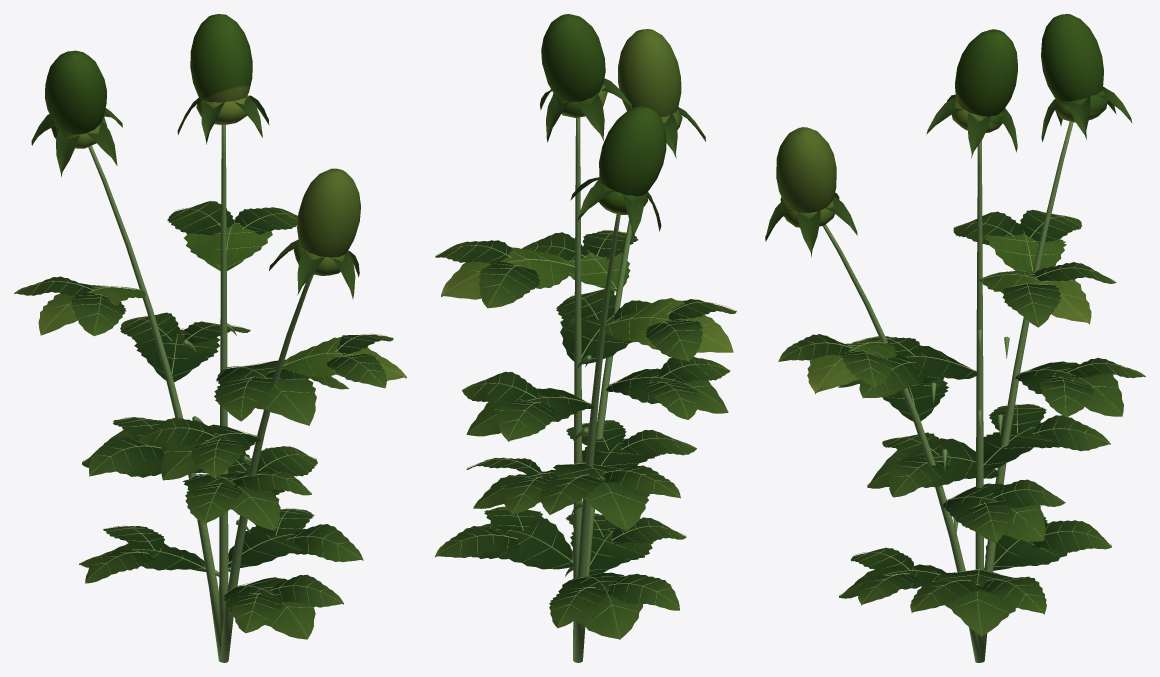
The model's file is rose-07.glb.
The picture shows the model from 3 angles, left to right: view 1: azimuth 30°, elevation 25°; view 2: azimuth 150°, elevation 25°; view 3: azimuth 270°, elevation 25°; orthographic projection. The views are drawn at different scales.
Parts seen in each view (by area): view 1: rose_stage_07_leaf_veins.012, rose_stage_07_young_leaf.012, rose_stage_07_stem_fibres.012, rose_stage_07_raised_midveins.012; view 2: rose_stage_07_leaf_veins.012, rose_stage_07_young_leaf.012, rose_stage_07_stem_fibres.012, rose_stage_07_raised_midveins.012; view 3: rose_stage_07_leaf_veins.012, rose_stage_07_young_leaf.012, rose_stage_07_stem_fibres.012, rose_stage_07_raised_midveins.012.
Boxes of the visible parts, box(x1,y1,x2,y2) form: rose_stage_07_leaf_veins.012: box(14, 95, 393, 639); rose_stage_07_young_leaf.012: box(38, 14, 406, 380); rose_stage_07_stem_fibres.012: box(88, 124, 313, 662); rose_stage_07_raised_midveins.012: box(15, 201, 404, 636); rose_stage_07_leaf_veins.012: box(435, 78, 736, 639); rose_stage_07_young_leaf.012: box(441, 14, 733, 352); rose_stage_07_stem_fibres.012: box(565, 117, 631, 662); rose_stage_07_raised_midveins.012: box(435, 230, 736, 638); rose_stage_07_leaf_veins.012: box(765, 86, 1145, 636); rose_stage_07_young_leaf.012: box(776, 14, 1107, 394); rose_stage_07_stem_fibres.012: box(822, 121, 1073, 662); rose_stage_07_raised_midveins.012: box(778, 210, 1144, 635).
Size of the model in its own units: 0.2723 by 0.5674 by 0.3102.
4 materials, 2 textured.
